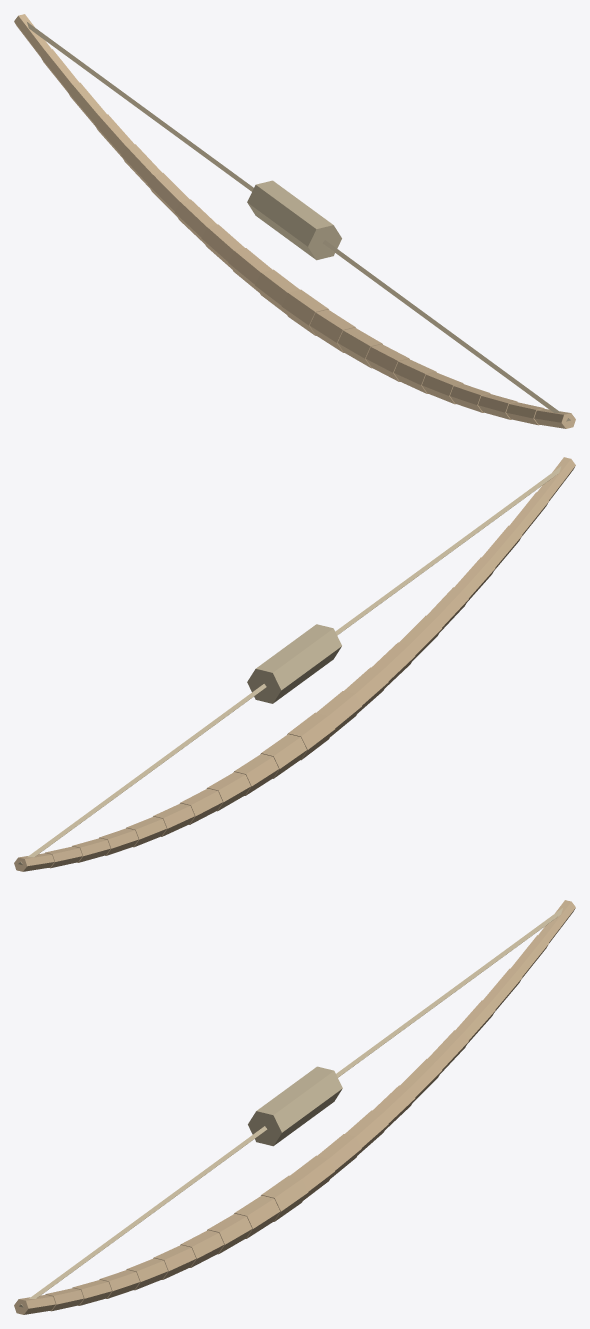
File: bow.glb
3 renders of one model, top to bottom at view 1: azimuth 30°, elevation 25°; view 2: azimuth 150°, elevation 25°; view 3: azimuth 330°, elevation 25°, orthographic.
Visible parts, largest first — view 1: Bow, String; view 2: Bow, String; view 3: Bow, String.
Boxes of the visible parts, x1,y1,x2,y2 form: Bow: [14, 14, 575, 428]; String: [27, 22, 570, 421]; Bow: [14, 457, 575, 871]; String: [18, 466, 561, 864]; Bow: [14, 900, 575, 1314]; String: [19, 908, 562, 1307].
Size of the model in its own units: 0.052 by 0.1598 by 1.45.
